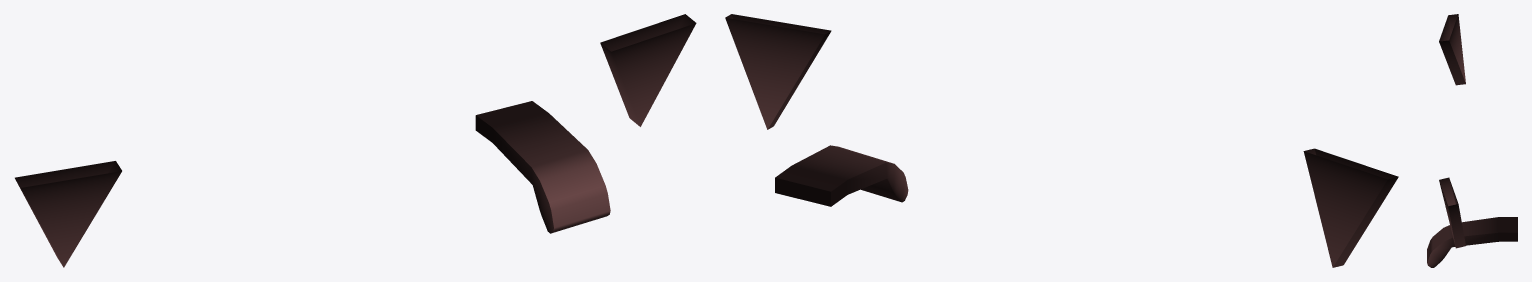
The model's file is MX5_Extra03_Trim.fbx.
3 views of the same model, side by side, from view 1: azimuth 30°, elevation 25°; view 2: azimuth 150°, elevation 25°; view 3: azimuth 270°, elevation 25° (orthographic). The views are drawn at different scales.
Parts seen in each view (by area): view 1: MX5_Extra03_Trim; view 2: MX5_Extra03_Trim; view 3: MX5_Extra03_Trim.
Boxes of the visible parts, left/top/right/bottom form: MX5_Extra03_Trim: left=15, top=14, right=696, bottom=267; MX5_Extra03_Trim: left=725, top=14, right=1398, bottom=267; MX5_Extra03_Trim: left=1427, top=14, right=1517, bottom=267.
Bounding box in the file's own units: 71.55 × 16.59 × 14.36.
